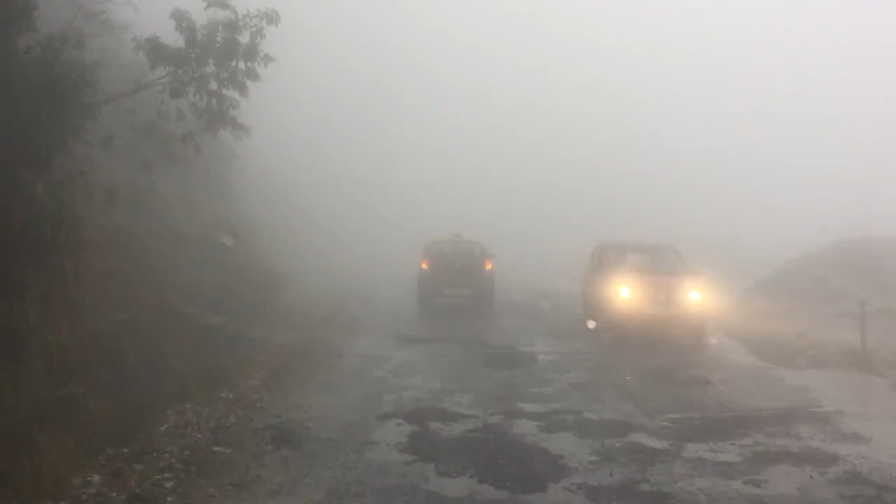car: (581, 238, 709, 333), (415, 230, 500, 312)
